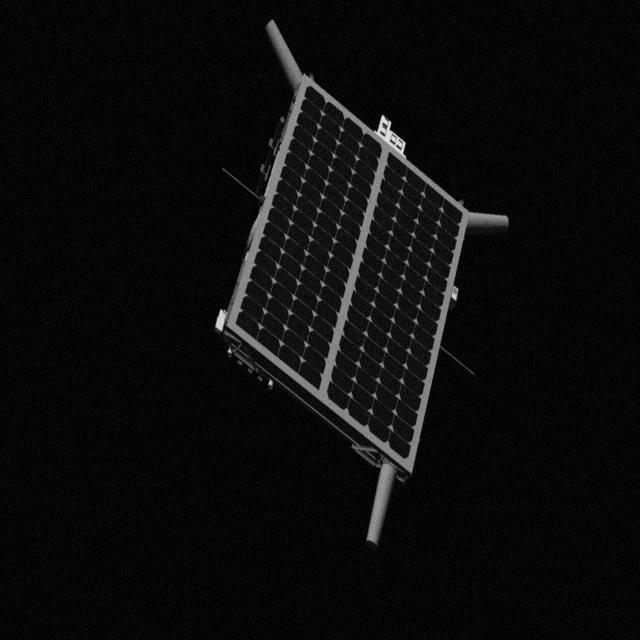satellite: (208, 18, 522, 550)
